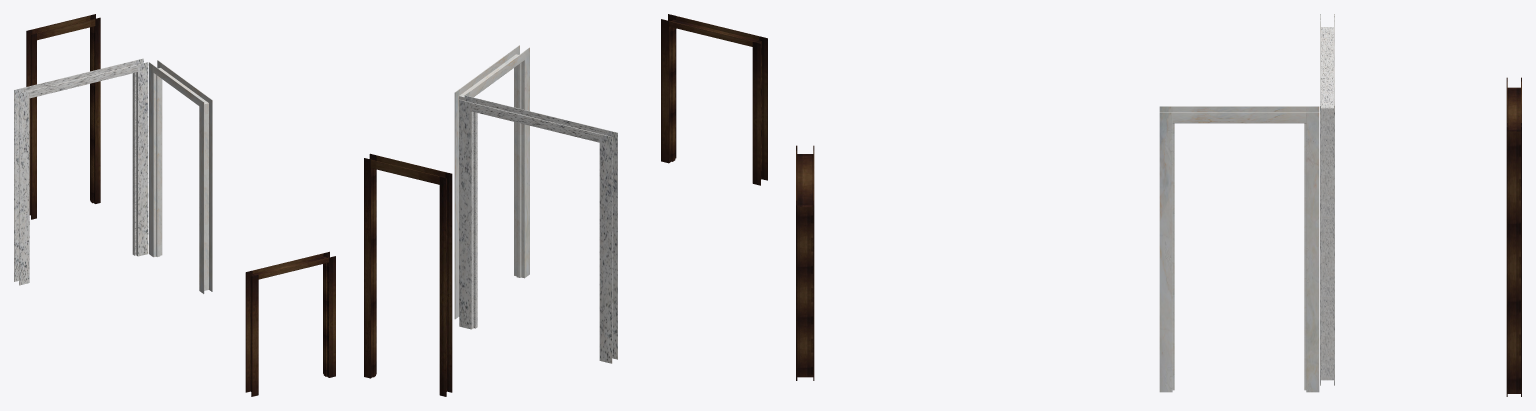
The model's file is marcot.obj.
The picture shows the model from 3 angles, left to right: view 1: azimuth 30°, elevation 25°; view 2: azimuth 150°, elevation 25°; view 3: azimuth 270°, elevation 25°; orthographic projection. The views are drawn at different scales.
Visible parts, largest first — view 1: marcointt:DoorFBXASC032Rodos001trim003, marcoextt:DoorFBXASC032Rodos001trim004pasted__pasted__grouppaste, marcointt:DoorFBXASC032Rodos001trim004pasted__pasted__grouppaste, marcointt:DoorFBXASC032Rodos001box001korob003, marcointt:DoorFBXASC032Rodos001trim006, marcoextt:DoorFBXASC032Rodos001trim003, marcoextt:DoorFBXASC032Rodos001box001korob005, marcointt:DoorFBXASC032Rodos001box001korob001, marcoextt:DoorFBXASC032Rodos001trim003group, marcoextt:DoorFBXASC032Rodos001box001korob002; view 2: marcointt:DoorFBXASC032Rodos001trim004pasted__pasted__grouppaste, marcoextt:DoorFBXASC032Rodos001trim004pasted__pasted__grouppaste, marcoextt:DoorFBXASC032Rodos001trim003group, marcointt:DoorFBXASC032Rodos001box001korob003, marcointt:DoorFBXASC032Rodos001trim003, marcointt:DoorFBXASC032Rodos001trim006, marcoextt:DoorFBXASC032Rodos001trim003, marcoextt:DoorFBXASC032Rodos001box001korob002, marcoextt:DoorFBXASC032Rodos001box001korob005, marcointt:DoorFBXASC032Rodos001box001korob001; view 3: marcointt:DoorFBXASC032Rodos001trim004pasted__pasted__grouppaste, marcointt:DoorFBXASC032Rodos001box001korob001, marcoextt:DoorFBXASC032Rodos001box001korob002, marcoextt:DoorFBXASC032Rodos001box001korob005, marcointt:DoorFBXASC032Rodos001box001korob003, marcointt:DoorFBXASC032Rodos001trim006, marcoextt:DoorFBXASC032Rodos001trim004pasted__pasted__grouppaste.
Boxes of the visible parts, x1,y1,x2,y2 form: marcointt:DoorFBXASC032Rodos001trim003: (19, 62, 148, 285); marcoextt:DoorFBXASC032Rodos001trim004pasted__pasted__grouppaste: (31, 17, 329, 392); marcointt:DoorFBXASC032Rodos001trim004pasted__pasted__grouppaste: (14, 58, 212, 291); marcointt:DoorFBXASC032Rodos001box001korob003: (154, 68, 208, 290); marcointt:DoorFBXASC032Rodos001trim006: (149, 62, 204, 293); marcoextt:DoorFBXASC032Rodos001trim003: (251, 256, 335, 396); marcoextt:DoorFBXASC032Rodos001box001korob005: (250, 256, 328, 391); marcointt:DoorFBXASC032Rodos001box001korob001: (132, 72, 137, 255); marcoextt:DoorFBXASC032Rodos001trim003group: (26, 14, 95, 215); marcoextt:DoorFBXASC032Rodos001box001korob002: (30, 26, 94, 214); marcointt:DoorFBXASC032Rodos001trim004pasted__pasted__grouppaste: (454, 45, 612, 363); marcoextt:DoorFBXASC032Rodos001trim004pasted__pasted__grouppaste: (369, 19, 760, 392); marcoextt:DoorFBXASC032Rodos001trim003group: (364, 158, 446, 396); marcointt:DoorFBXASC032Rodos001box001korob003: (459, 54, 523, 316); marcointt:DoorFBXASC032Rodos001trim003: (465, 95, 617, 359); marcointt:DoorFBXASC032Rodos001trim006: (464, 47, 529, 278); marcoextt:DoorFBXASC032Rodos001trim003: (668, 14, 767, 180); marcoextt:DoorFBXASC032Rodos001box001korob002: (371, 168, 446, 391); marcoextt:DoorFBXASC032Rodos001box001korob005: (669, 19, 761, 179); marcointt:DoorFBXASC032Rodos001box001korob001: (472, 111, 477, 328); marcointt:DoorFBXASC032Rodos001trim004pasted__pasted__grouppaste: (1159, 14, 1334, 392); marcointt:DoorFBXASC032Rodos001box001korob001: (1321, 27, 1333, 380); marcoextt:DoorFBXASC032Rodos001box001korob002: (1507, 87, 1520, 393); marcoextt:DoorFBXASC032Rodos001box001korob005: (797, 154, 813, 377); marcointt:DoorFBXASC032Rodos001box001korob003: (1172, 123, 1306, 390); marcointt:DoorFBXASC032Rodos001trim006: (1159, 106, 1319, 112); marcoextt:DoorFBXASC032Rodos001trim004pasted__pasted__grouppaste: (813, 77, 1507, 396).
Size of the model in its own units: 27.47 by 34.56 by 81.25.
Materials: 4 (4 with a texture image).
